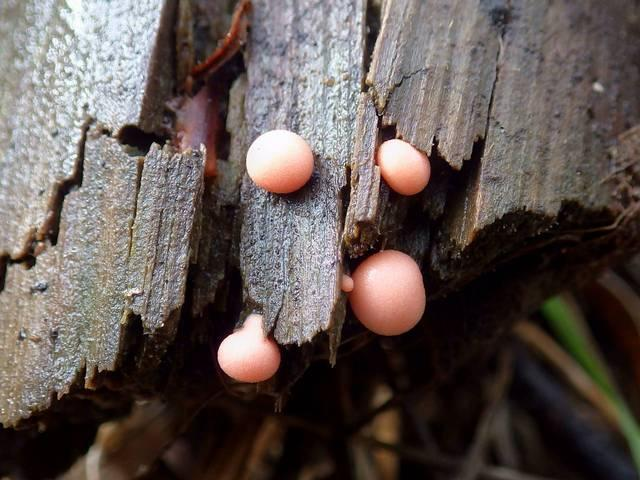Non-edible Mushroom: (348, 248, 426, 336), (215, 311, 281, 384), (244, 128, 315, 194), (375, 137, 431, 196)
